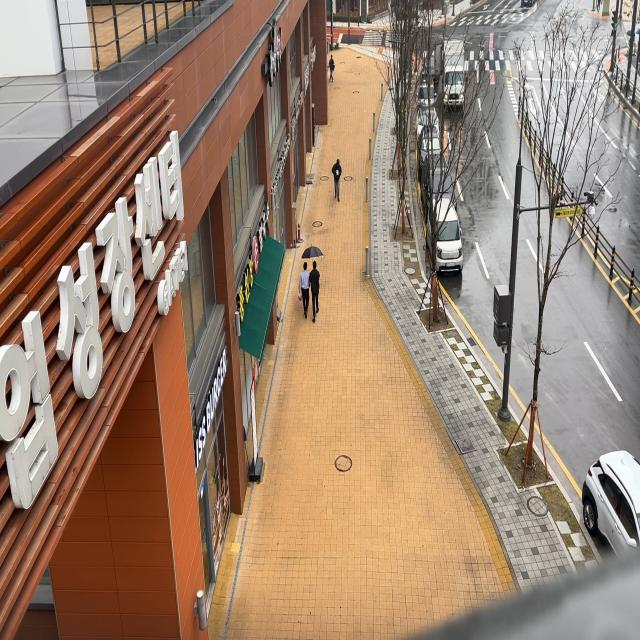Car: (569, 435, 640, 565), (423, 196, 470, 264), (416, 152, 461, 212), (416, 124, 449, 162), (413, 65, 442, 108), (411, 100, 442, 135), (420, 38, 440, 82)
Truck: (436, 27, 470, 110)
